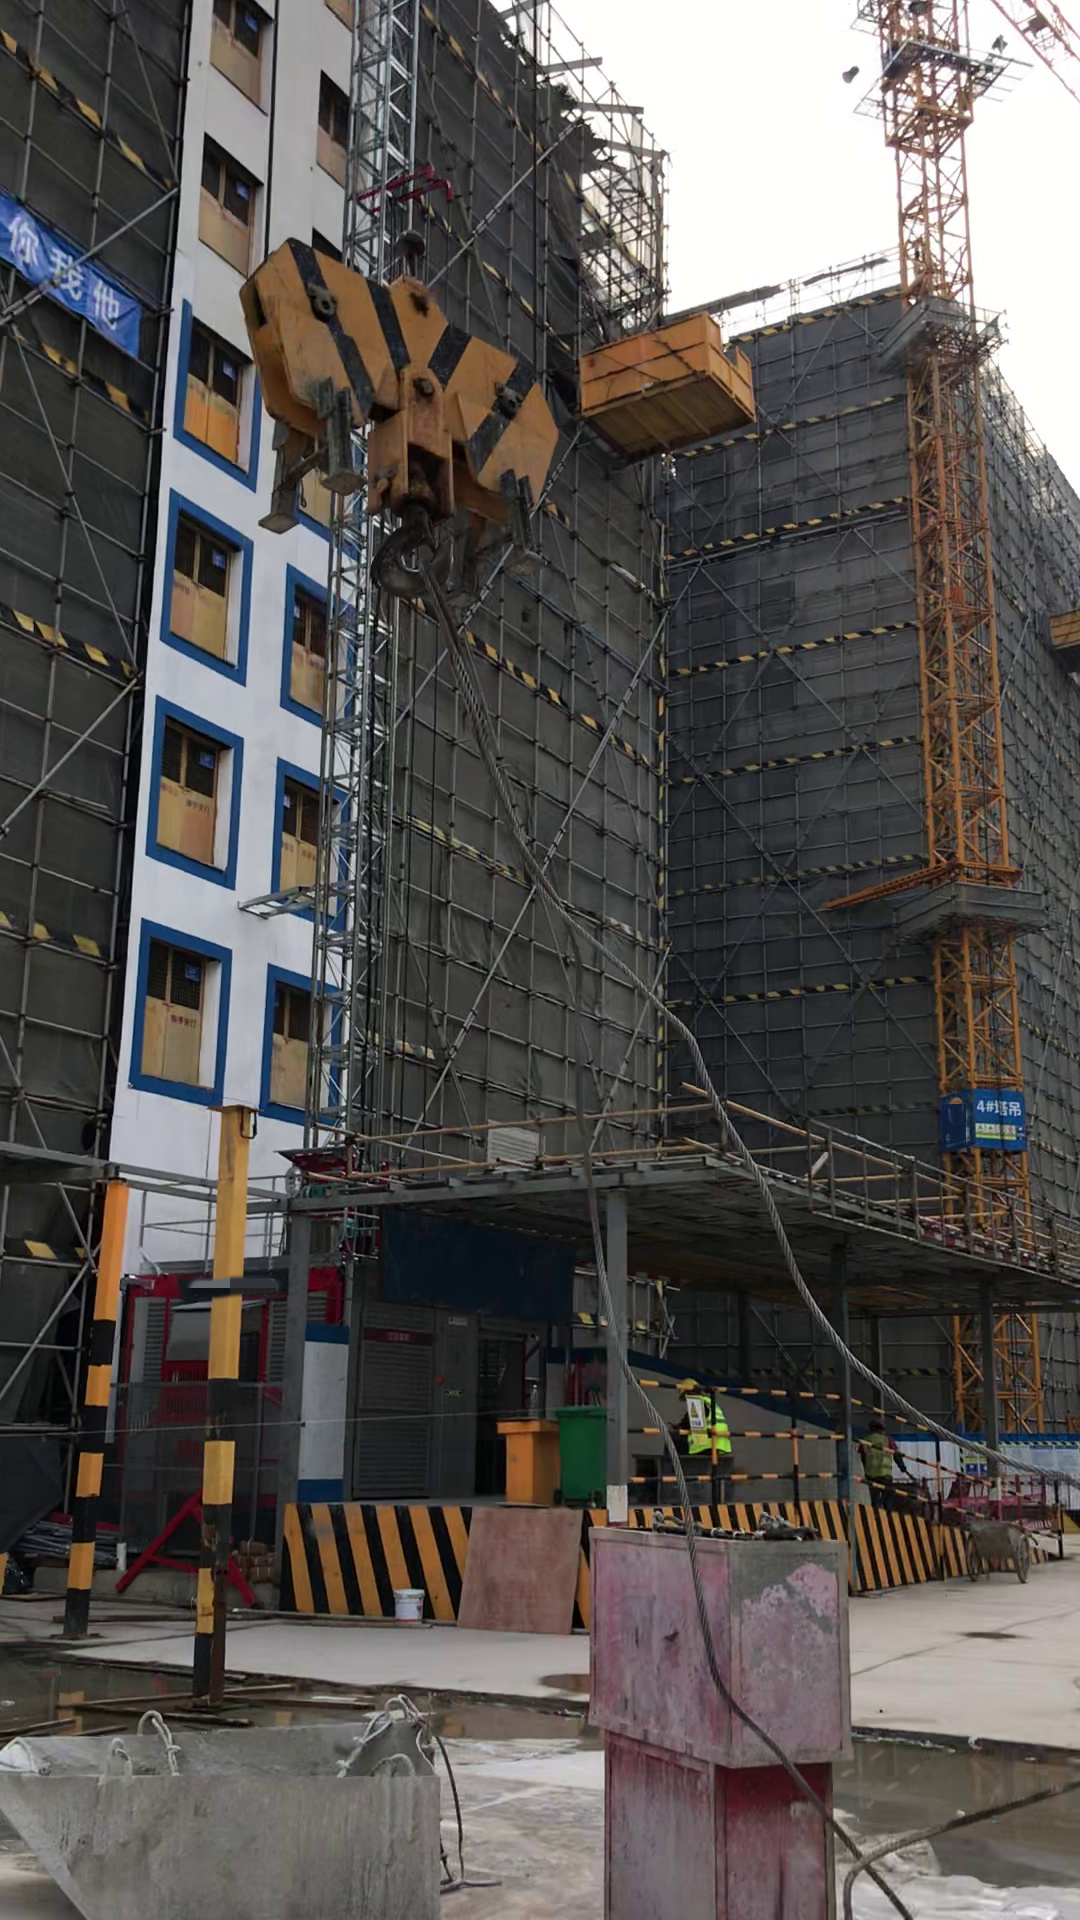fence: (607, 1367, 1080, 1546)
helmet: (677, 1372, 707, 1398)
hook: (183, 194, 600, 679)
hopper: (2, 1637, 529, 1920)
person: (659, 1344, 740, 1502)
slogan: (1, 160, 147, 362), (925, 1065, 1040, 1162)
vest: (669, 1384, 737, 1482)
